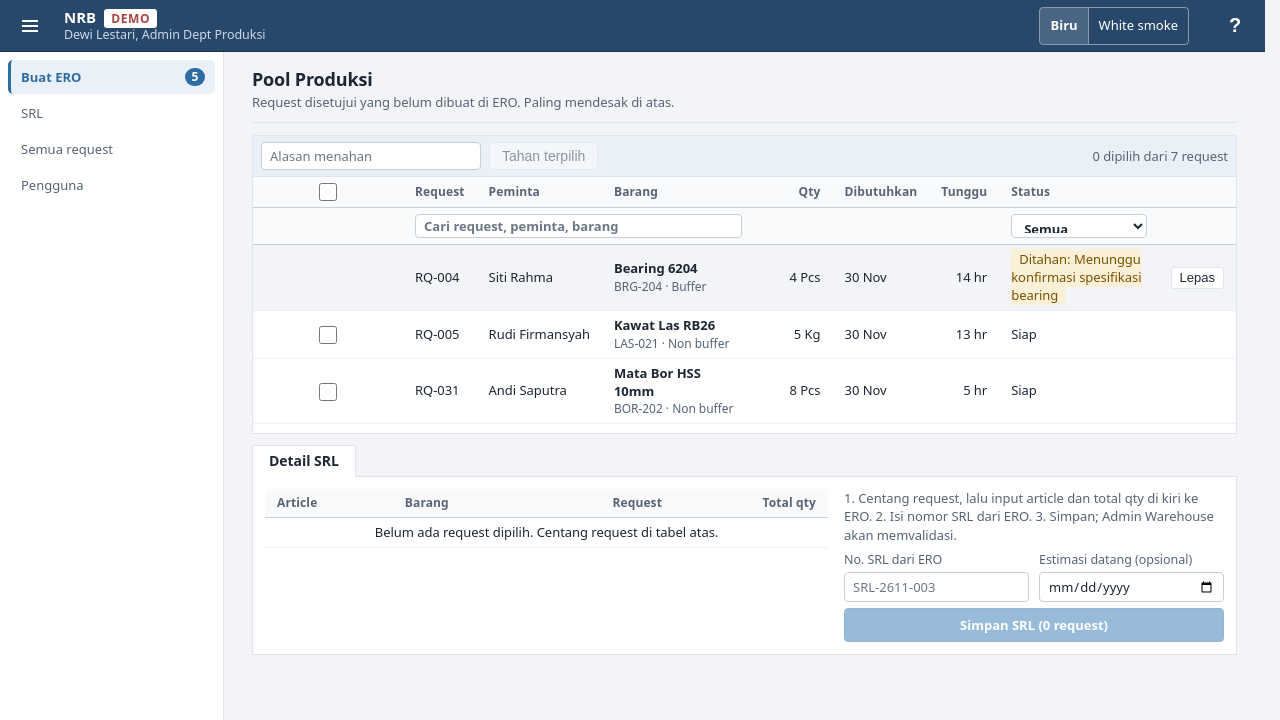
Buat ERO Admin Dept › request yang tidak dicentang tidak ikut SRL; setelah simpan muncul konfirmasi
This screenshot has width=1280, height=720.
Earlier steps of the test are not shown.
Expected: the text "0 dipilih dari 7 request" is shown, [1092,147,1228,166]
Expected: the button "Simpan SRL (0 request)" is disabled, [844,608,1224,642]
Click the checkbox named "Ikut SRL:". click: (328, 335)
box: [319,326,337,344]
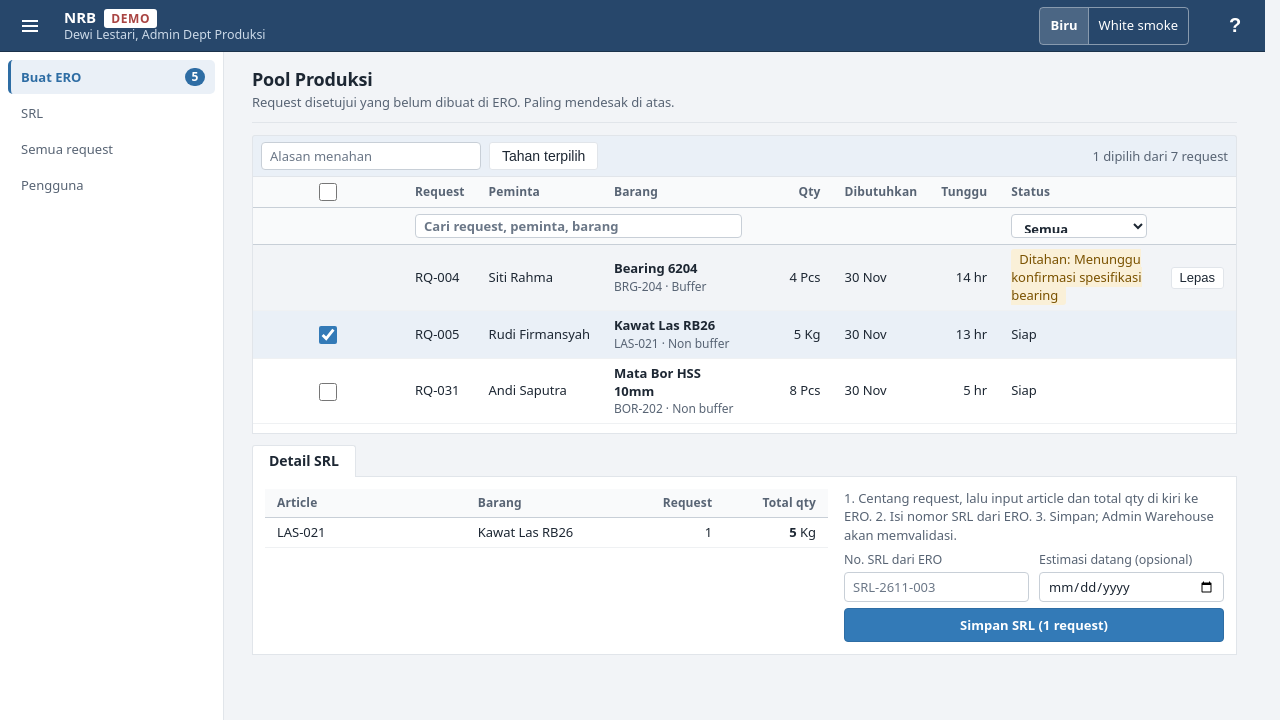
Expected: the text "1 dipilih dari 7 request" is shown, [1092,147,1228,166]
Type "SRL-TES-001" into the field with placeholder "SRL-2611-003". click: (936, 587)
box: [844,572,1029,602]
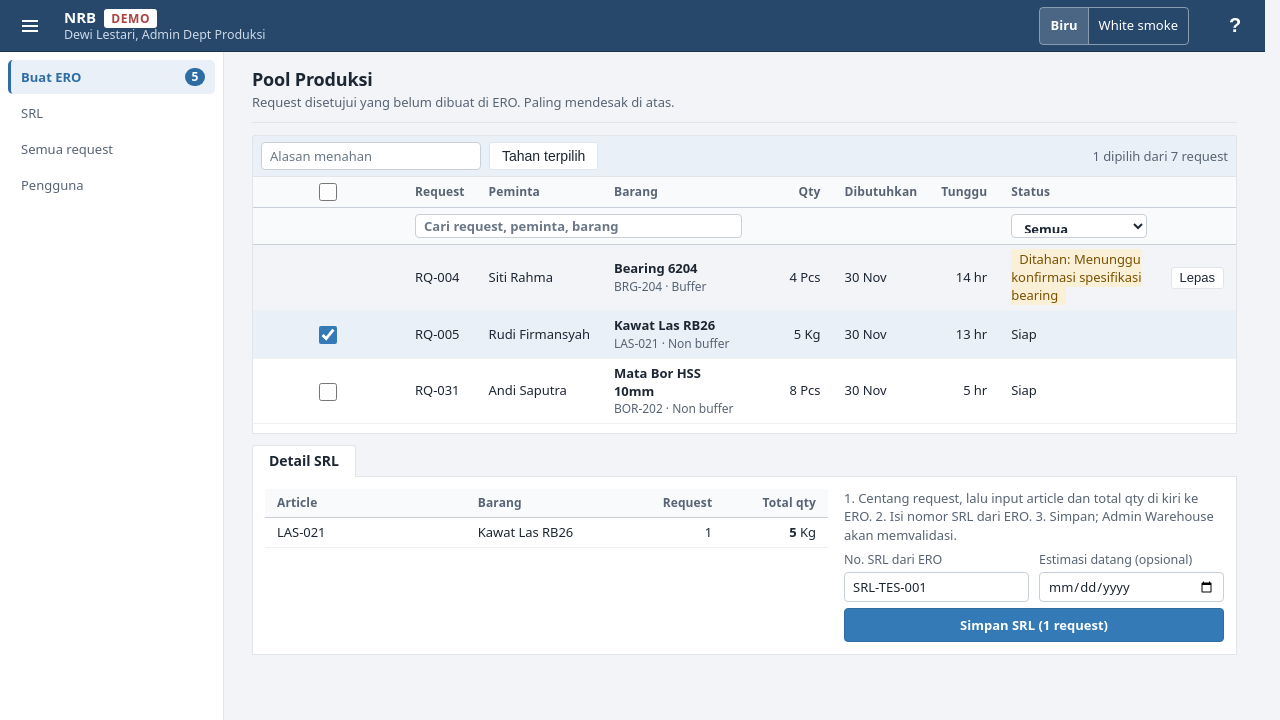
Click the button "Simpan SRL (1 request)". click: (1034, 625)
box: [844,608,1224,642]
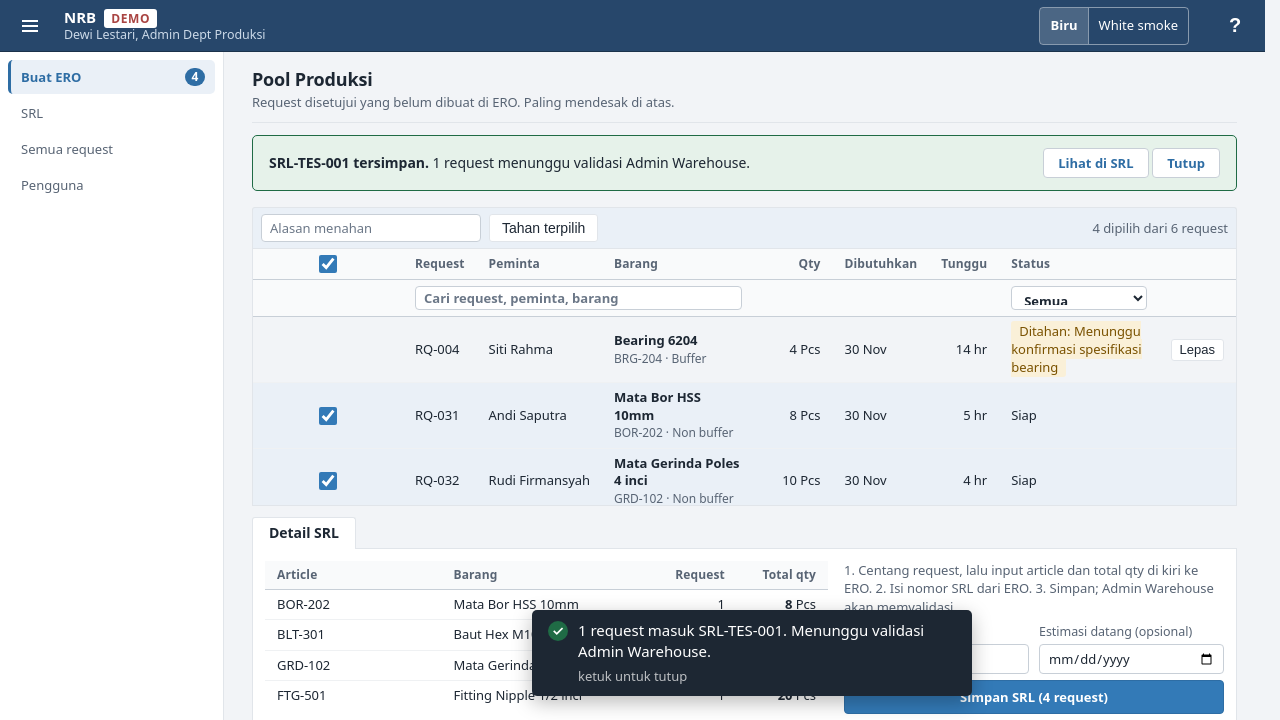
Expected: the text "SRL-TES-001 tersimpan." is shown, [269,153,429,172]
Expected: the button "Lihat di SRL" is shown, [1043,148,1149,178]
